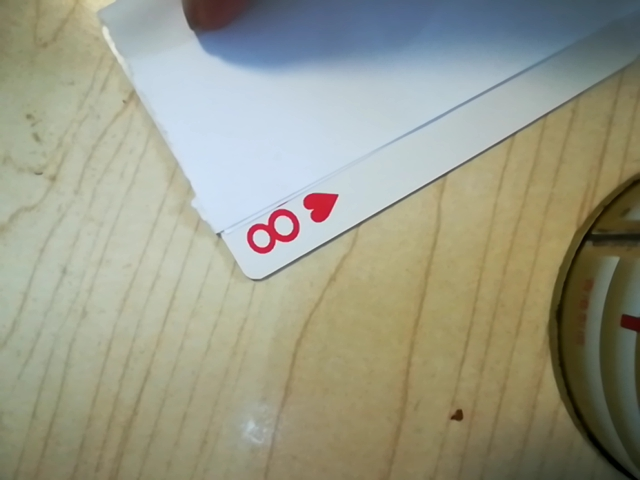hx 8: (237, 189, 339, 265)
